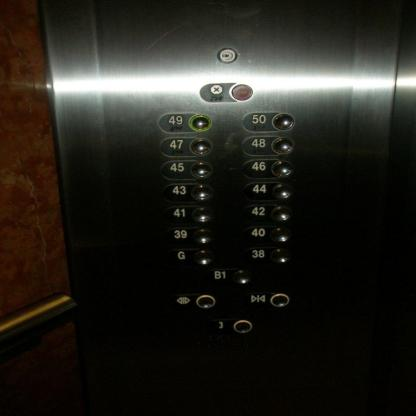38: (243, 245, 297, 265)
39: (162, 226, 216, 246)
40: (244, 223, 296, 244)
41: (160, 204, 215, 225)
42: (244, 202, 296, 223)
43: (160, 182, 215, 203)
44: (243, 180, 296, 202)
45: (158, 159, 216, 181)
46: (242, 157, 294, 179)
47: (158, 135, 216, 157)
48: (243, 135, 295, 156)
49: (157, 112, 212, 134)
50: (242, 111, 296, 132)
B1: (205, 267, 254, 285)
G: (163, 247, 216, 267)
call: (204, 317, 258, 335)
close: (243, 290, 293, 309)
keyhole: (217, 46, 237, 64)
open: (168, 292, 218, 311)
stop: (197, 82, 254, 103)
